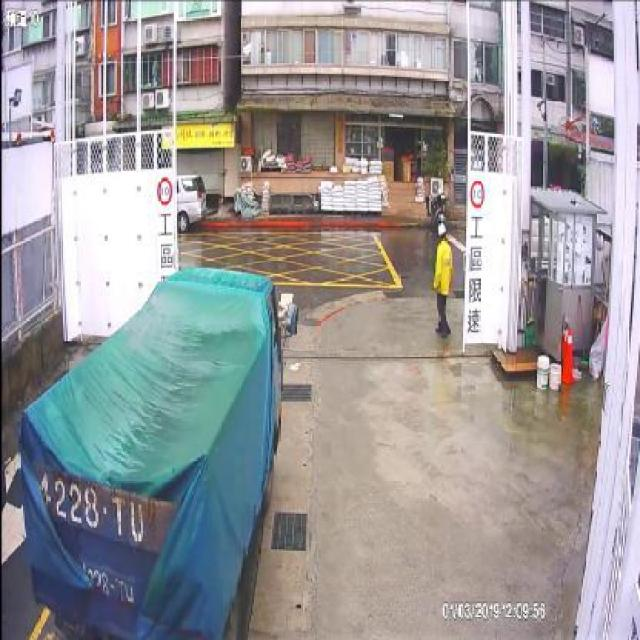Dump Truck: (17, 264, 299, 640)
